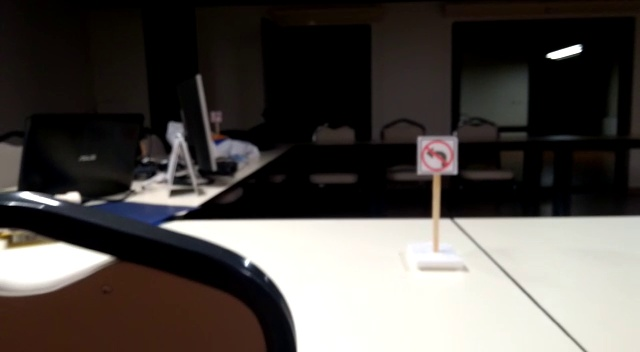sola_donulmez: (418, 136, 465, 177)
